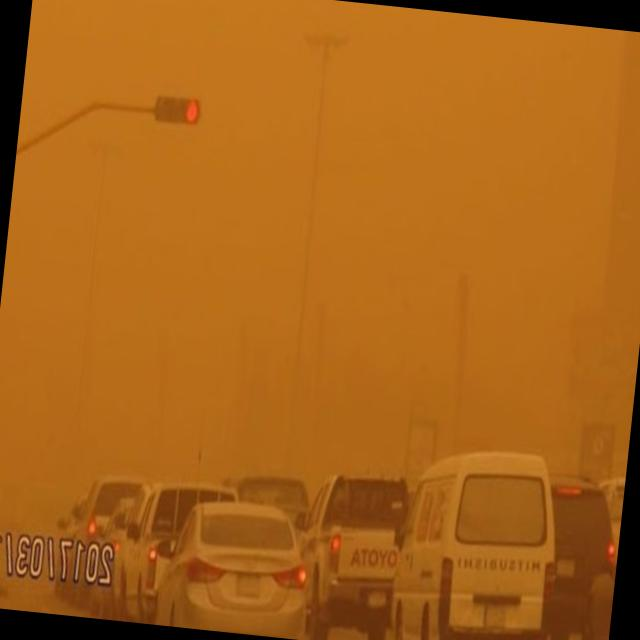car: (386, 437, 568, 640), (158, 496, 314, 639), (292, 468, 415, 640), (111, 468, 238, 632), (533, 479, 624, 640), (72, 467, 134, 598), (229, 470, 315, 542), (92, 500, 131, 614), (50, 489, 84, 598)
